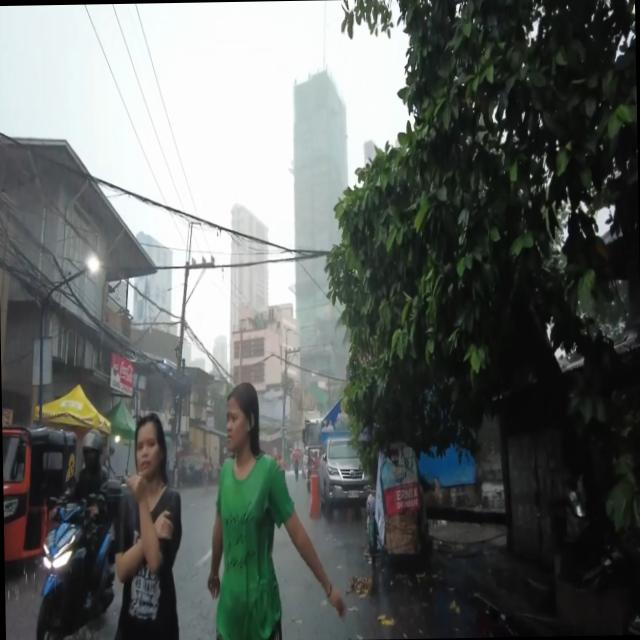half: (80, 426, 102, 469)
